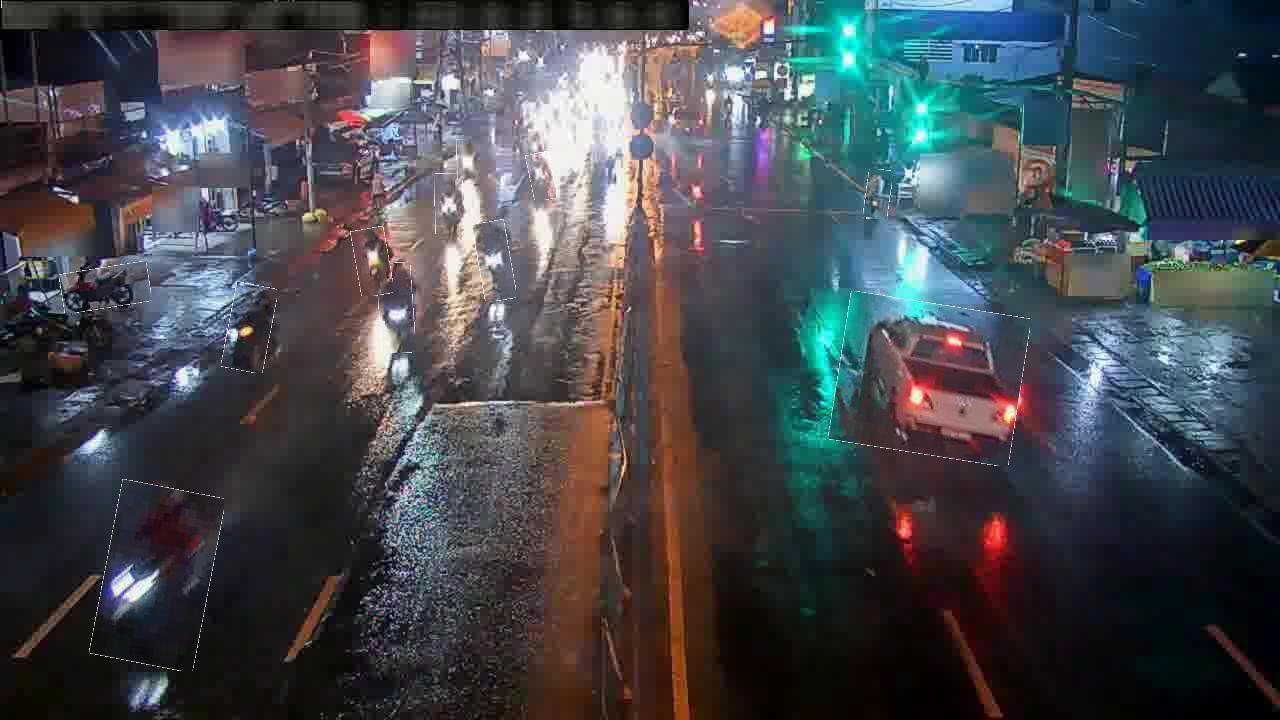car: (834, 298, 1026, 461)
motorbike: (97, 483, 218, 668), (225, 284, 275, 373), (61, 265, 151, 311), (378, 262, 415, 354), (476, 220, 514, 301), (353, 227, 392, 296), (434, 173, 464, 238), (683, 164, 707, 224), (864, 170, 892, 220), (528, 152, 555, 201), (457, 139, 480, 181)
